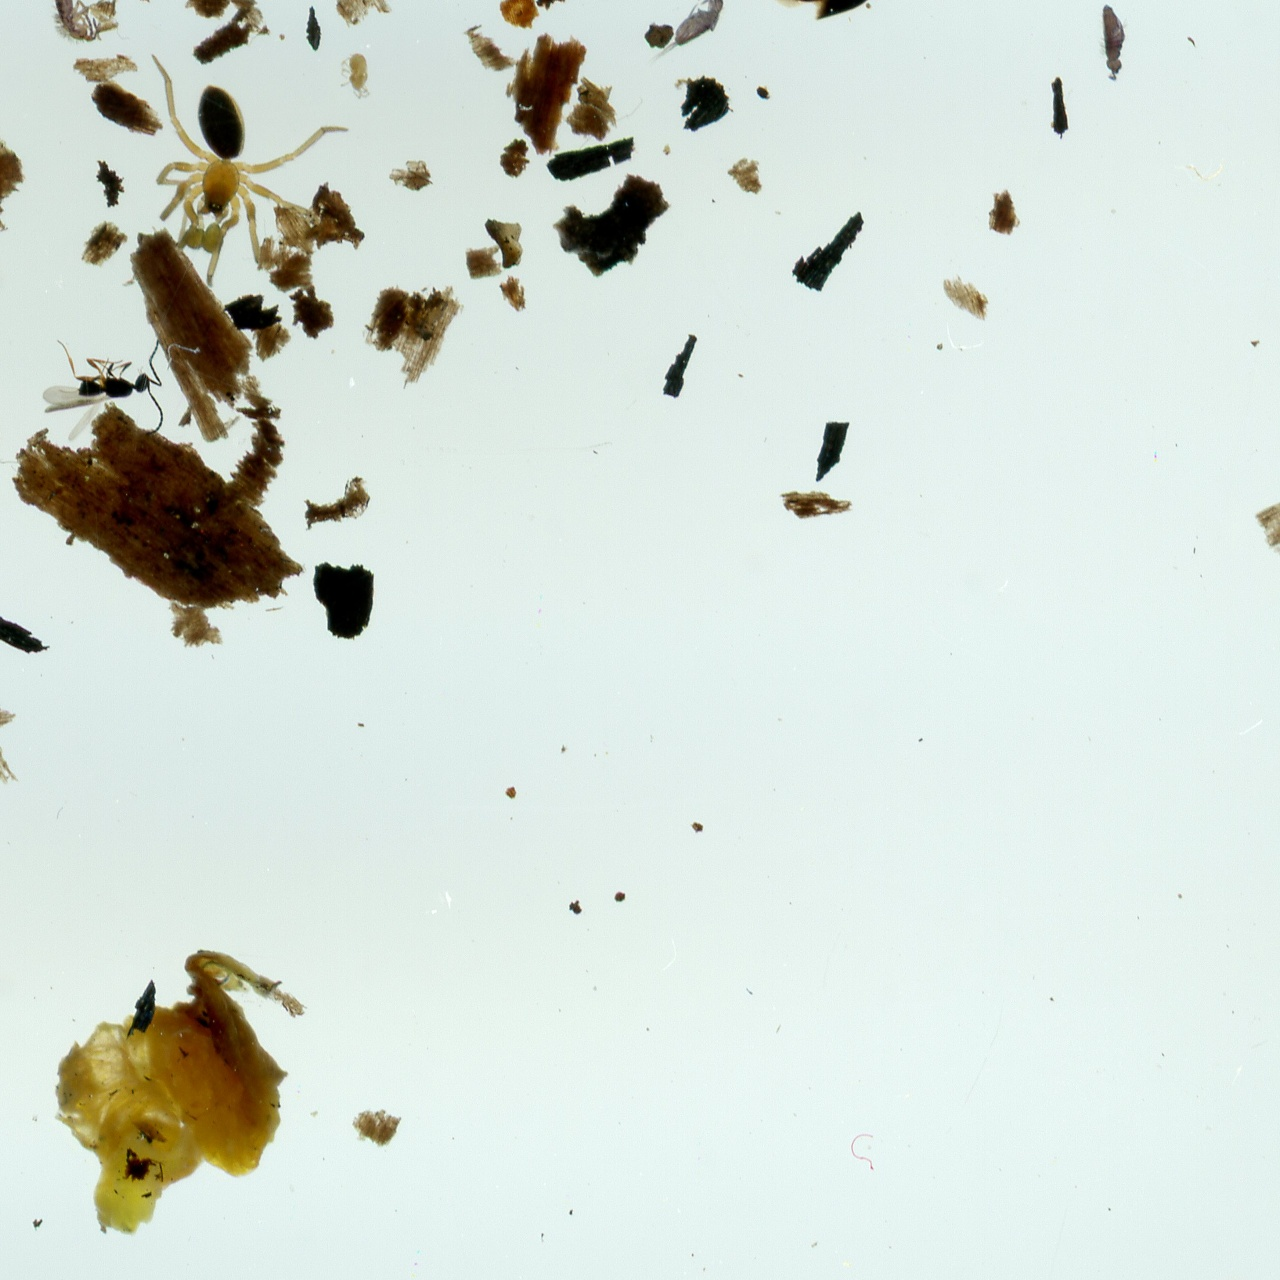arthropod: (143, 54, 350, 294), (42, 338, 166, 445), (641, 0, 744, 88), (40, 0, 105, 52), (1097, 0, 1135, 87), (339, 52, 373, 102)
